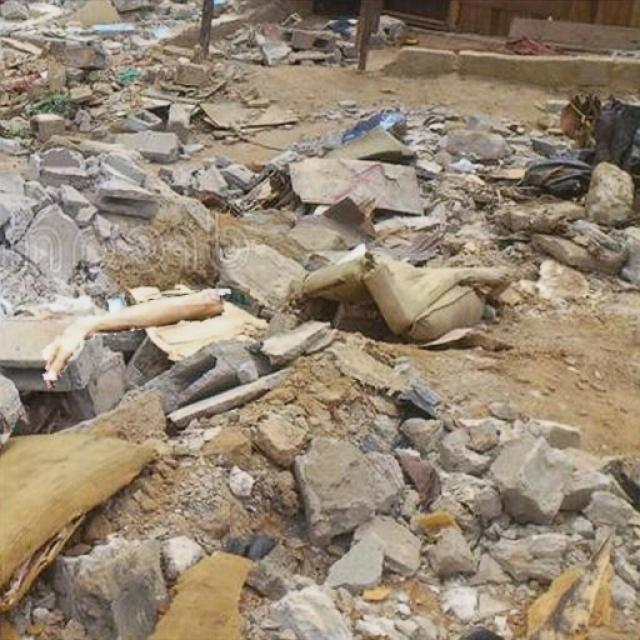Person in Rubble: (41, 288, 231, 386)
